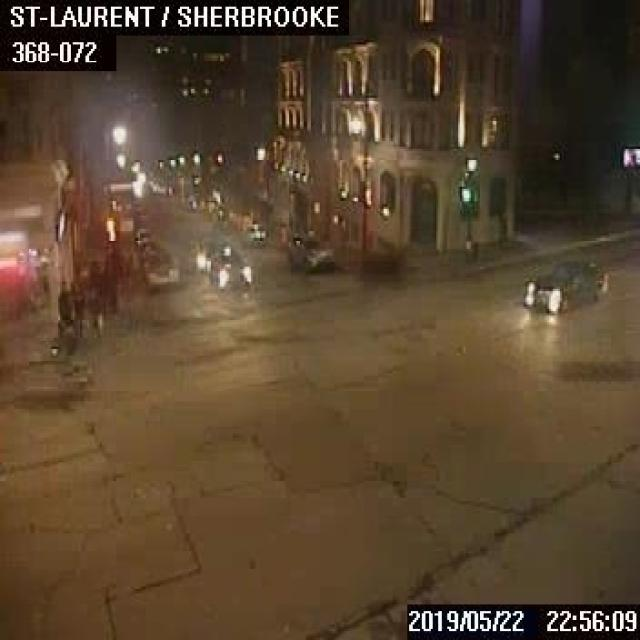pedestrian: (55, 279, 73, 336)
vehicle: (524, 257, 606, 311), (287, 231, 333, 272), (208, 246, 250, 286), (138, 246, 176, 286), (243, 221, 264, 243)
